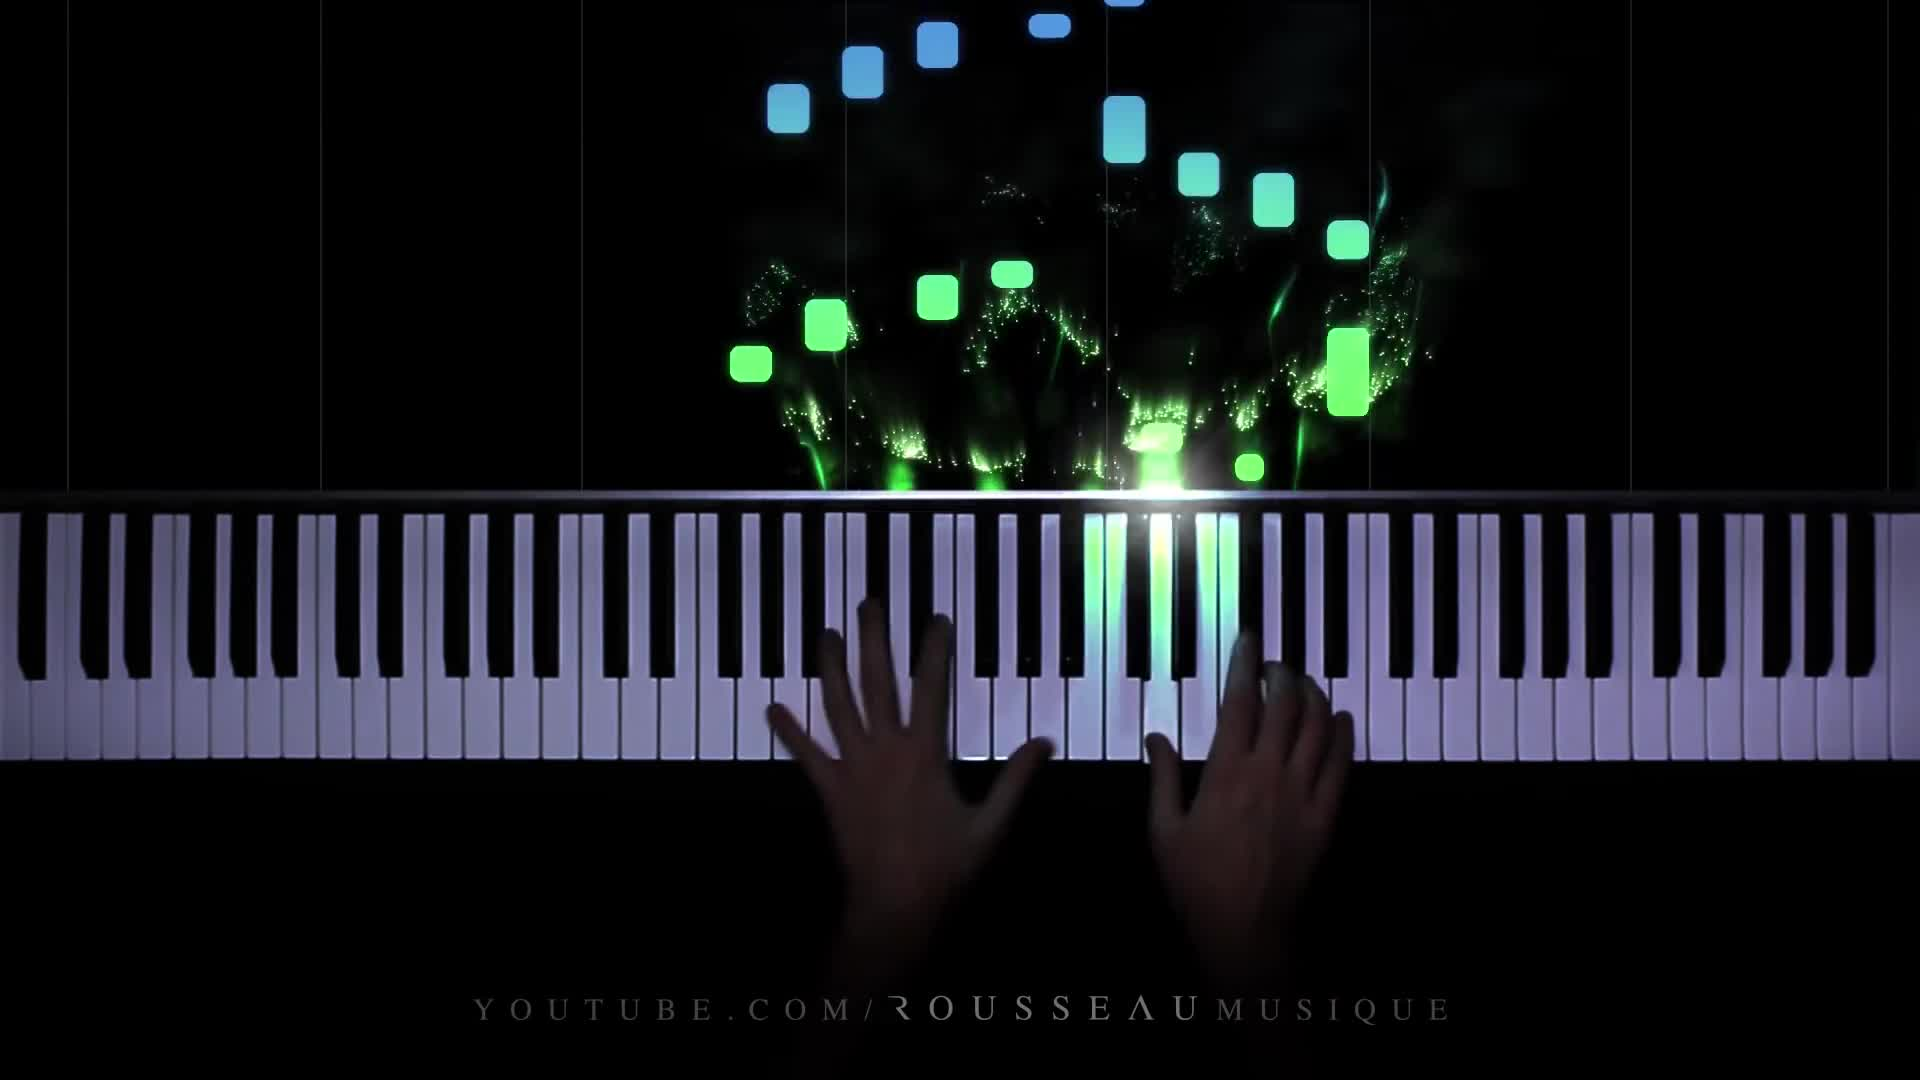left: (764, 597, 1054, 876)
right: (1146, 632, 1360, 905)
